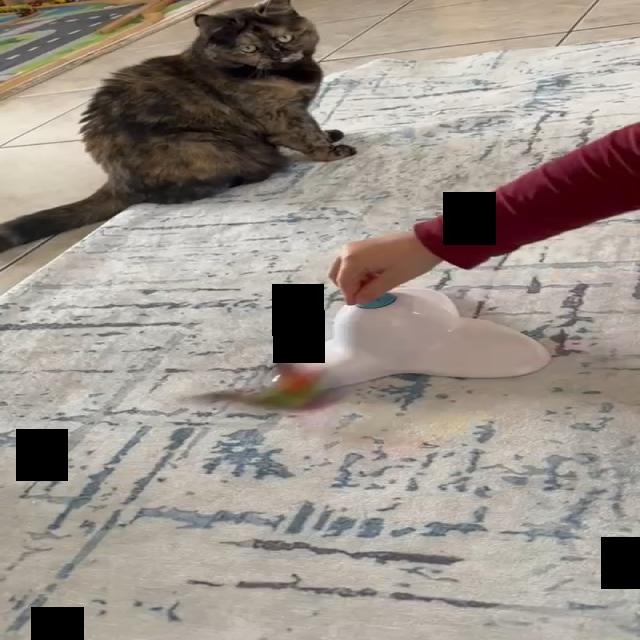authorized: (0, 0, 356, 254)
